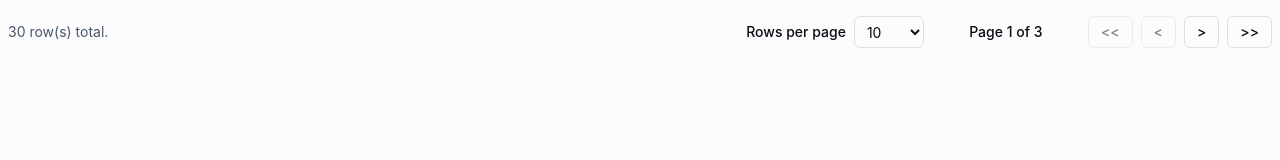
Test case: TablePagination › navigation buttons › navigates to previous page
Note: Go to page 2
Click the button ">": (1202, 32) [1184,16,1219,48]
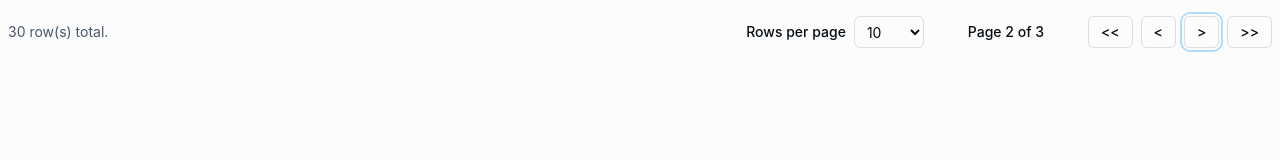
Expected: the text "Page 2 of 3" is shown, [968,23,1044,40]
Note: Go back to page 1
Click the button "<": (1158, 32) [1141,16,1176,48]
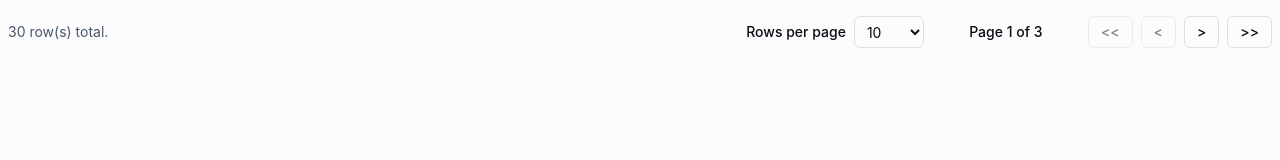
Expected: the text "Page 1 of 3" is shown, [969,23,1042,40]
